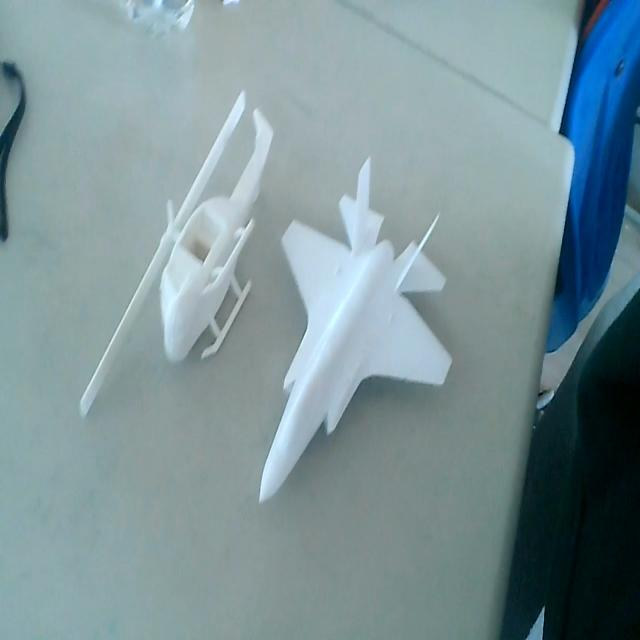Helicopter: (75, 85, 274, 410)
Jet: (260, 164, 452, 502)
